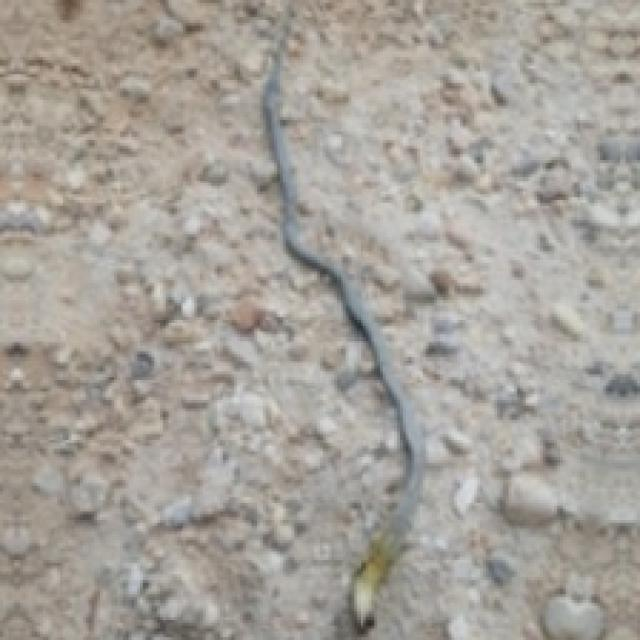king cobra: (263, 6, 423, 631)
